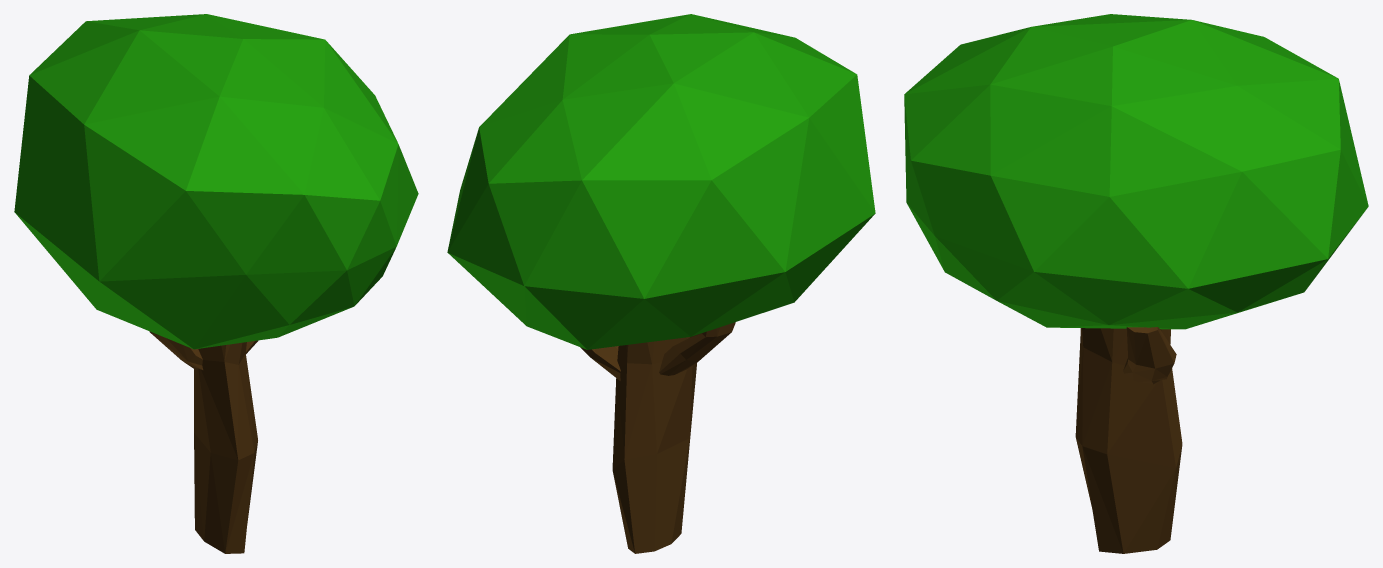
Rendered from tree_1.dae.
3 views of the same model, side by side, from view 1: azimuth 30°, elevation 25°; view 2: azimuth 150°, elevation 25°; view 3: azimuth 270°, elevation 25° (orthographic).
Parts seen in each view (by area): view 1: tree_1; view 2: tree_1; view 3: tree_1.
Part boxes in pixels (bbox=[...]): tree_1: bbox=[14, 14, 418, 553]; tree_1: bbox=[447, 14, 875, 553]; tree_1: bbox=[904, 14, 1368, 553].
Bounding box in the file's own units: 0.00552 × 0.00652 × 0.00787.
